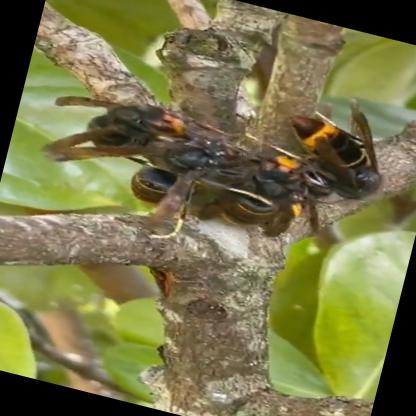bee: (0, 14, 416, 328)
